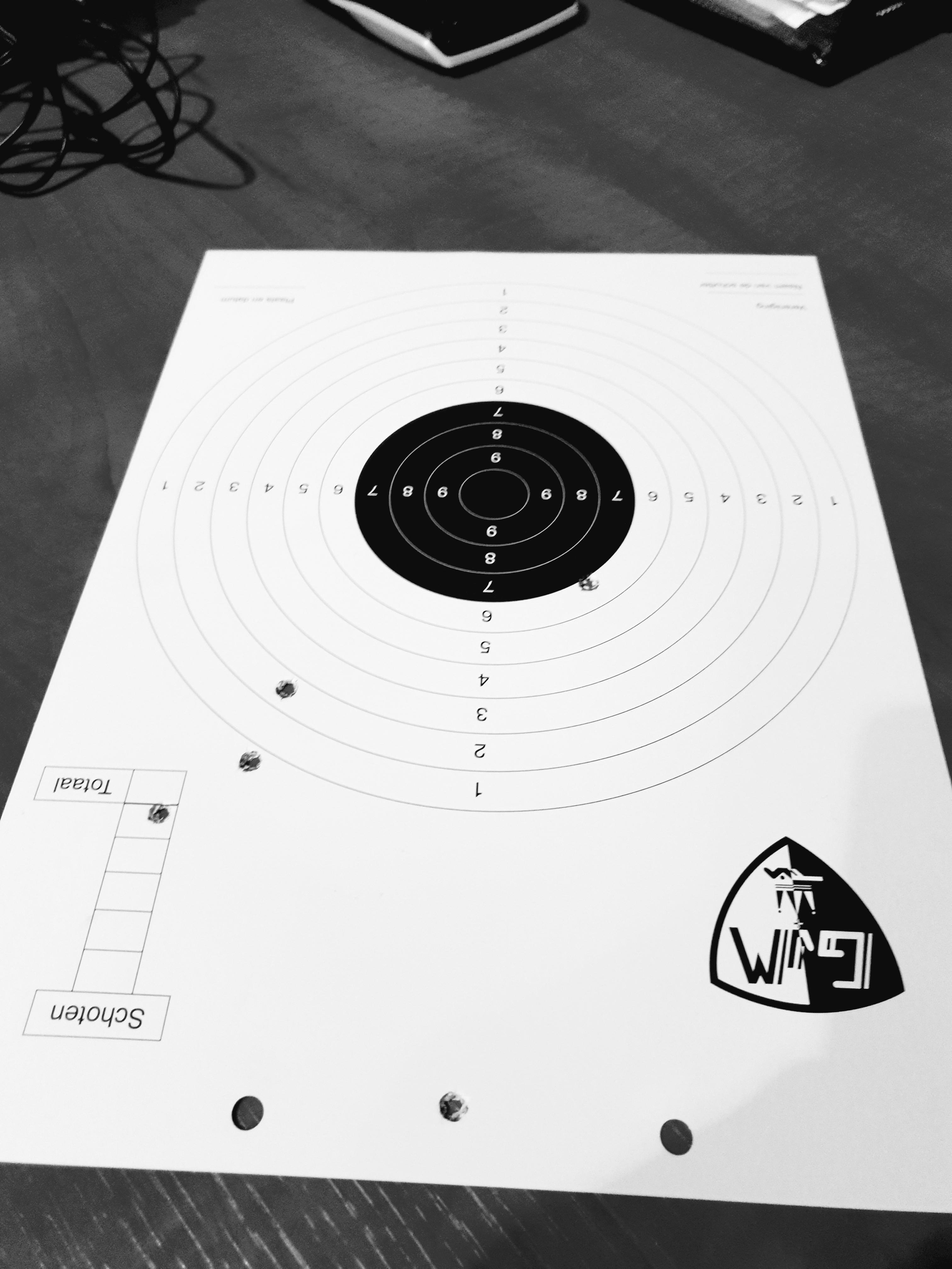hole: (438, 1090, 470, 1124), (145, 800, 173, 825), (274, 679, 300, 701), (237, 751, 262, 773), (576, 573, 600, 592)
